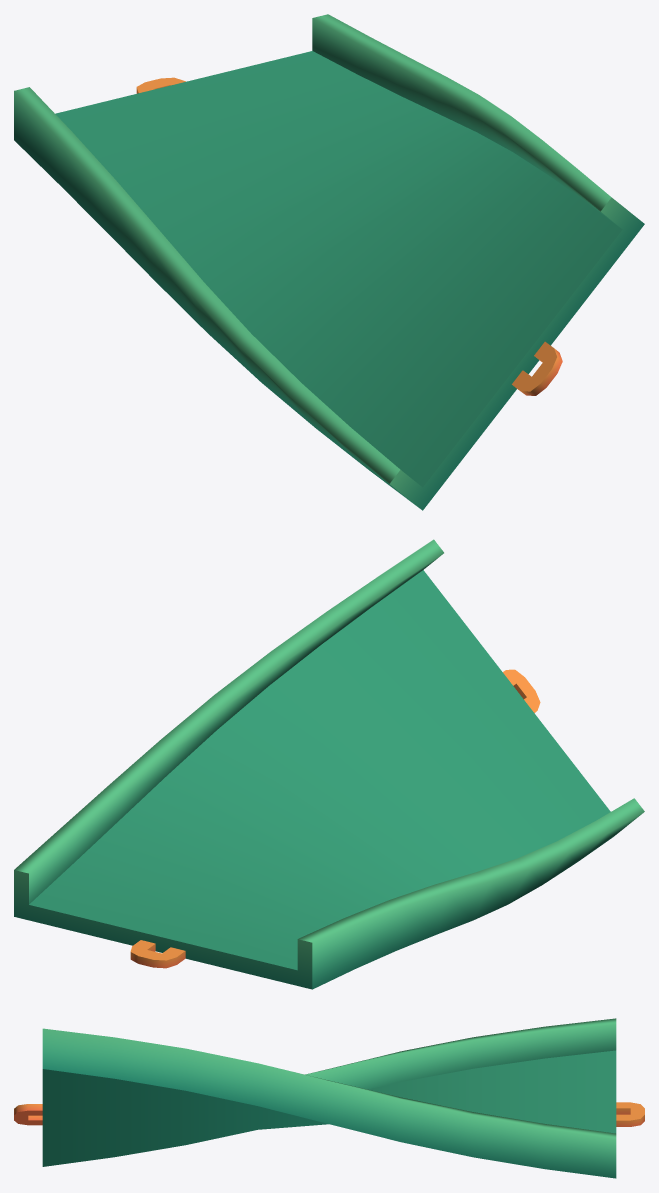
The model's file is track-wide-straight-skew-right.fbx.
The picture shows the model from 3 angles, top to bottom: view 1: azimuth 30°, elevation 25°; view 2: azimuth 150°, elevation 25°; view 3: azimuth 270°, elevation 25°; orthographic projection. The views are drawn at different scales.
Visible parts, largest first — view 1: track-wide-straight-skew-right; view 2: track-wide-straight-skew-right; view 3: track-wide-straight-skew-right.
Part boxes in pixels (x1,y1,x2,y2): track-wide-straight-skew-right: [14, 14, 644, 510]; track-wide-straight-skew-right: [14, 539, 644, 989]; track-wide-straight-skew-right: [14, 1018, 644, 1178].
Bounding box in the file's own units: 204 × 163 × 440.
